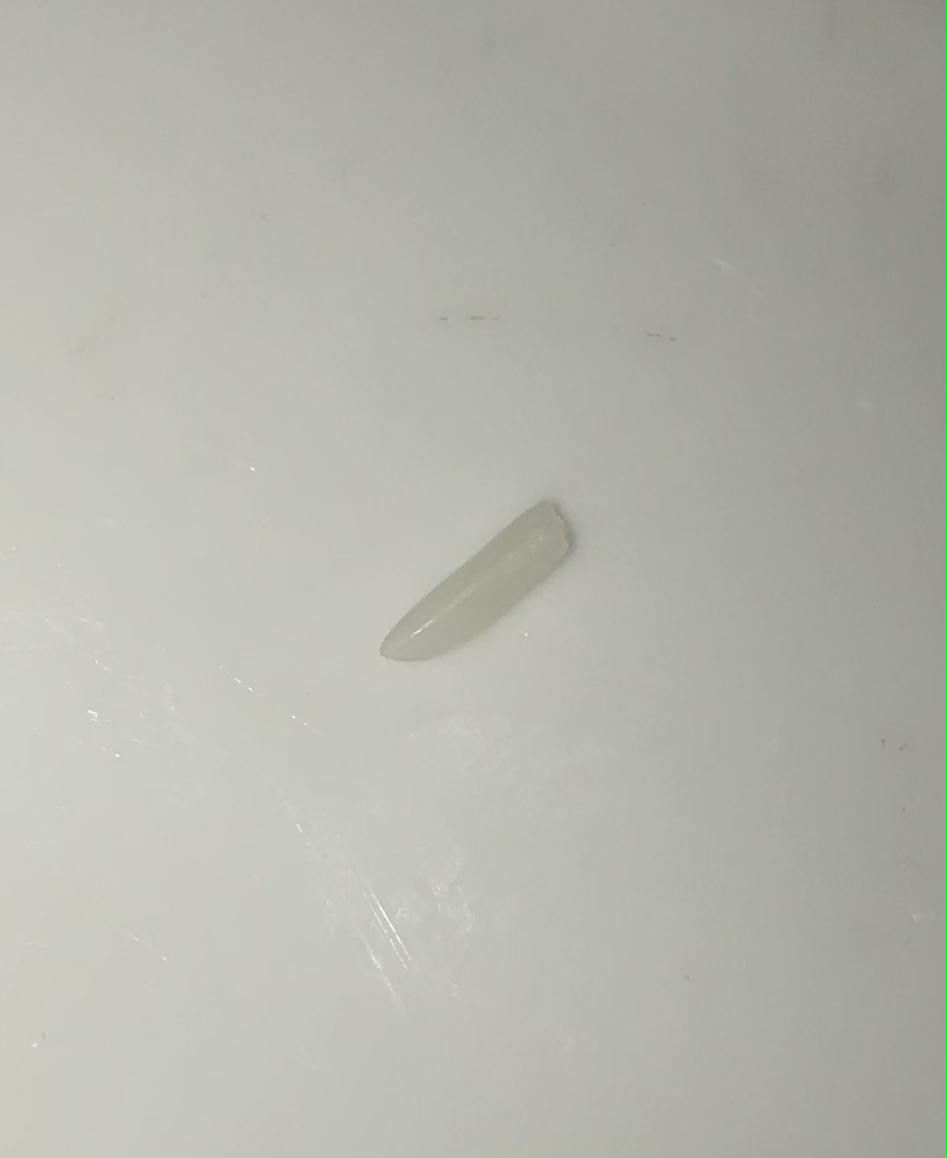Gao Ngoc Troi: (362, 473, 602, 669)
